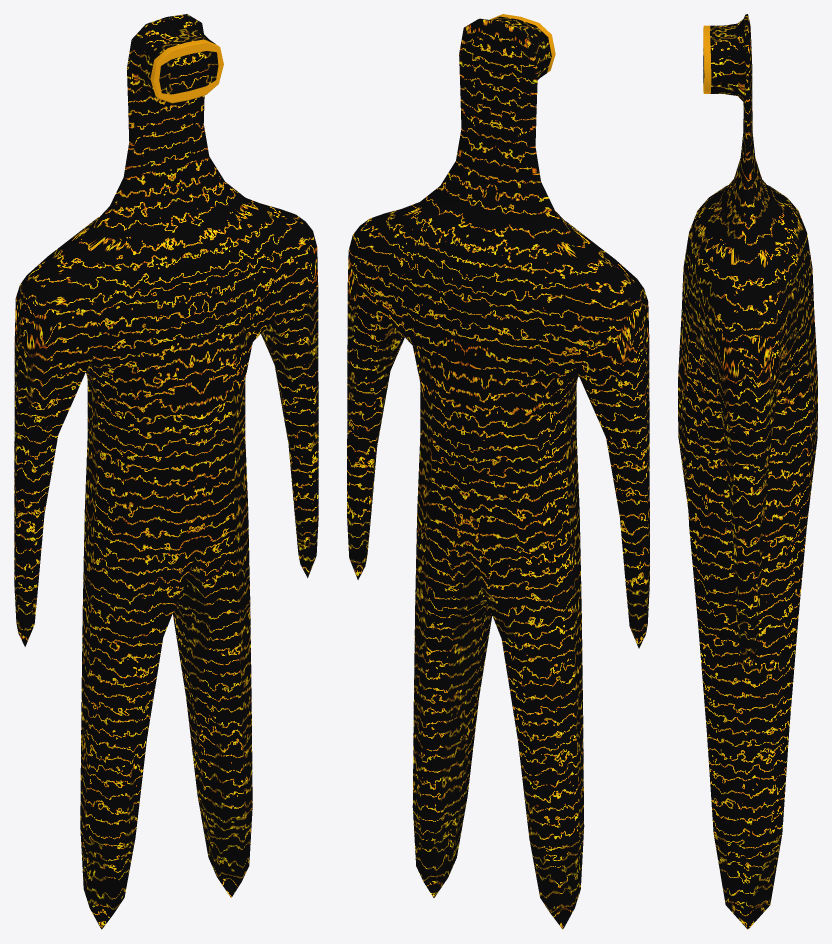
File: hologram-002.glb
The picture shows the model from 3 angles, left to right: view 1: azimuth 30°, elevation 25°; view 2: azimuth 150°, elevation 25°; view 3: azimuth 270°, elevation 25°; orthographic projection. The views are drawn at different scales.
Parts seen in each view (by area): view 1: Cube; view 2: Cube; view 3: Cube.
Part boxes in pixels (x1,y1,x2,y2): Cube: (14, 14, 318, 929); Cube: (347, 14, 649, 929); Cube: (678, 14, 817, 929).
Size of the model in its own units: 3.88 by 11.03 by 1.59.
1 material, 1 textured.
